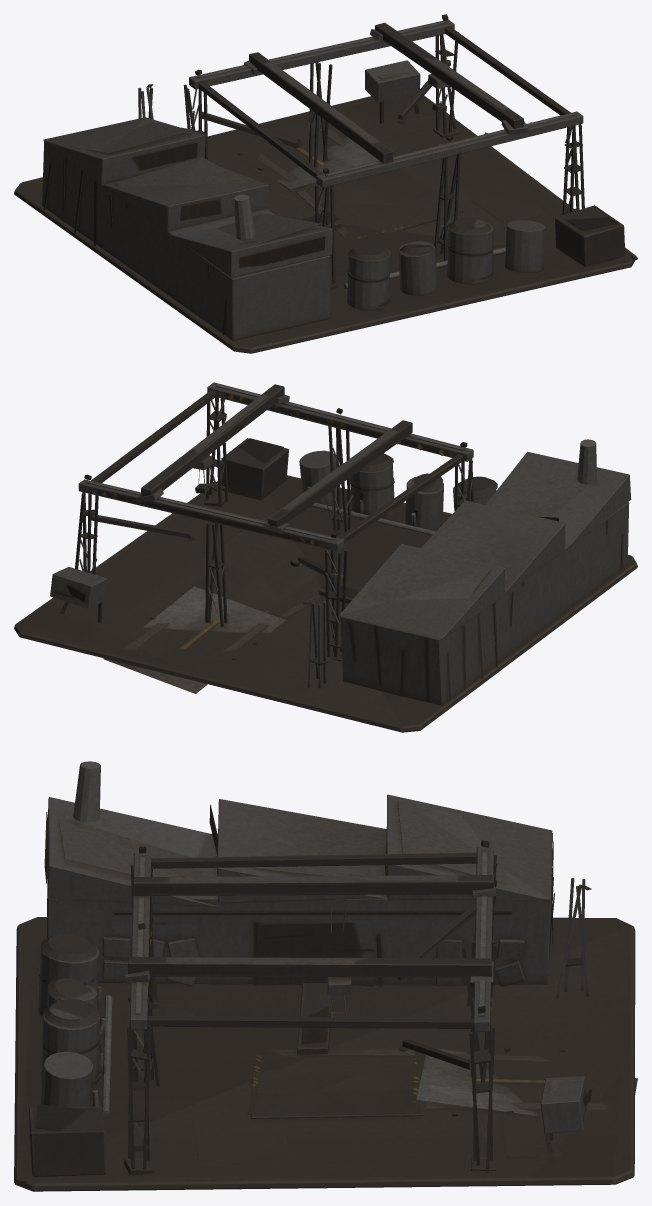
Rendered from chs_advvehplant_wreck.fbx.
3 views of the same model, one above another, from view 1: azimuth 30°, elevation 25°; view 2: azimuth 150°, elevation 25°; view 3: azimuth 270°, elevation 25° (orthographic). The views are drawn at different scales.
Parts seen in each view (by area): view 1: base_bar, trolley2_bar, trolley1_bar; view 2: base_bar, trolley2_bar, trolley1_bar; view 3: base_bar, trolley2_bar, trolley1_bar.
Boxes of the visible parts, x1,y1,x2,y2 form: base_bar: (14, 14, 637, 353); trolley2_bar: (370, 22, 528, 134); trolley1_bar: (244, 52, 393, 163); base_bar: (14, 382, 637, 732); trolley2_bar: (136, 384, 289, 502); trolley1_bar: (263, 420, 412, 533); base_bar: (14, 761, 637, 1191); trolley2_bar: (124, 956, 493, 1017); trolley1_bar: (133, 875, 496, 932).
Size of the model in its own units: 4766 by 1721 by 4755.
2 materials, 2 textured.
